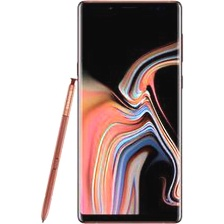phone: (74, 0, 185, 224)
